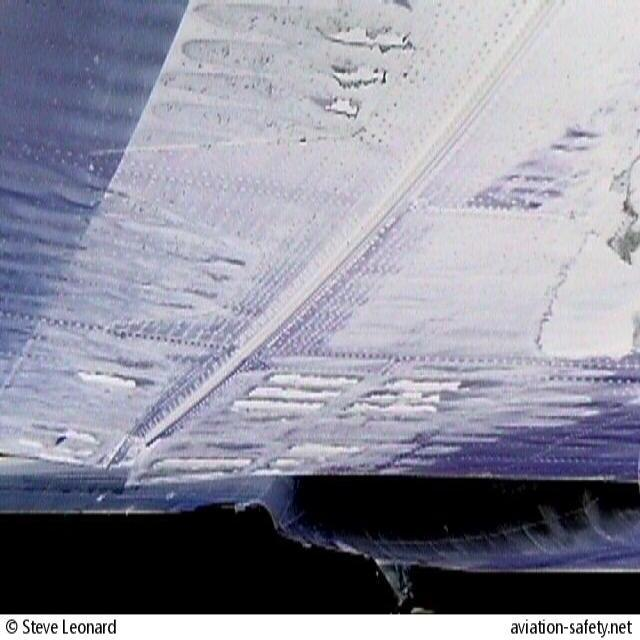crack: (298, 13, 423, 127)
